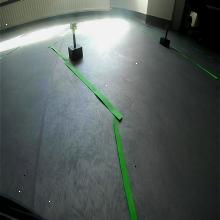green: (70, 21, 78, 30)
